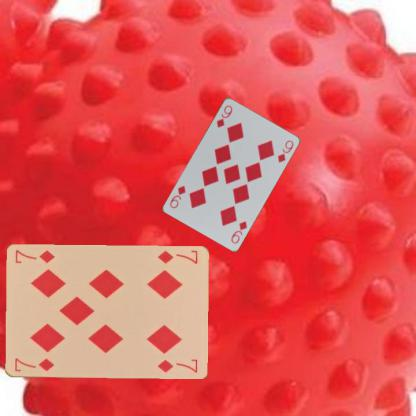7d: (12, 356, 56, 374), (155, 248, 199, 266)
9d: (228, 218, 249, 244), (214, 102, 233, 129)
